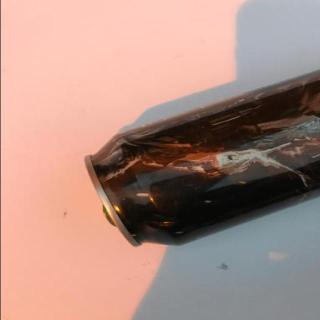Anorganik: (84, 66, 320, 248)
